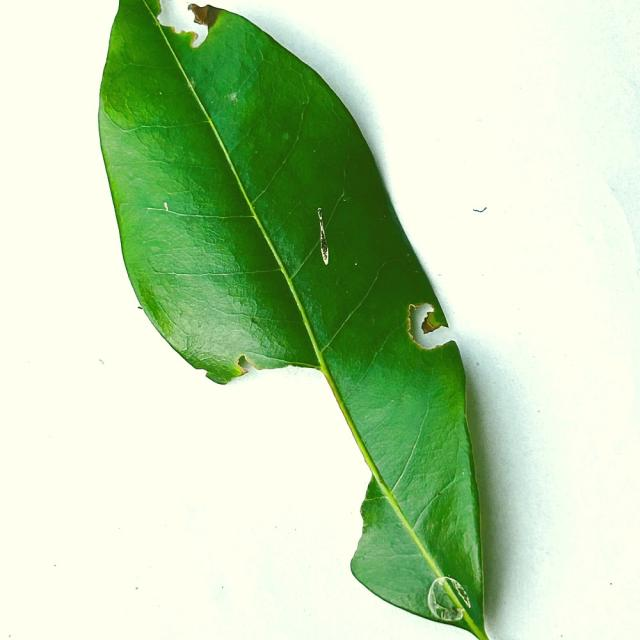Deficiency Leaf: (200, 369, 370, 544), (159, 0, 211, 49), (410, 302, 456, 348)
Lychee: (97, 0, 489, 639)
